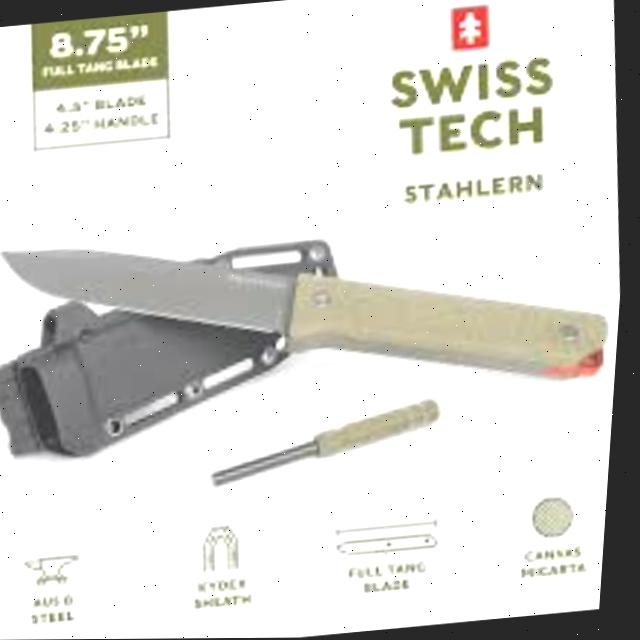Knife: (0, 193, 624, 434)
